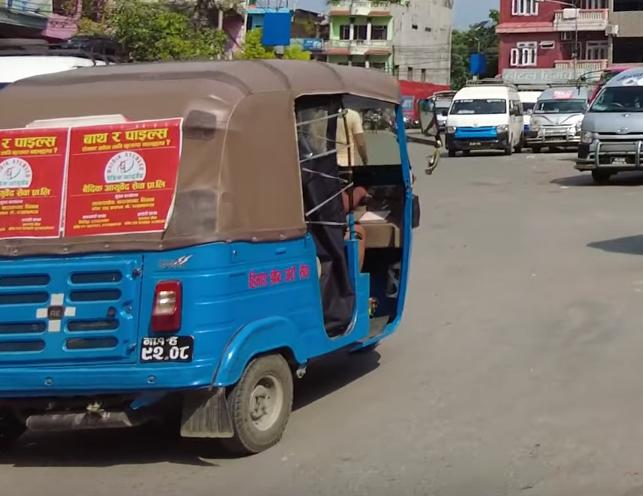auto_rickshaw: (0, 49, 430, 467)
micro_bus: (572, 59, 643, 181), (439, 79, 526, 159), (525, 82, 591, 152)
